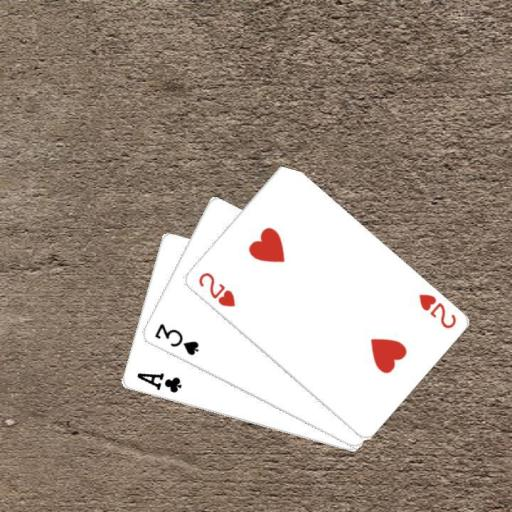2H: (415, 290, 457, 331), (194, 269, 237, 309)
3S: (151, 320, 200, 357)
AC: (133, 370, 183, 395)
